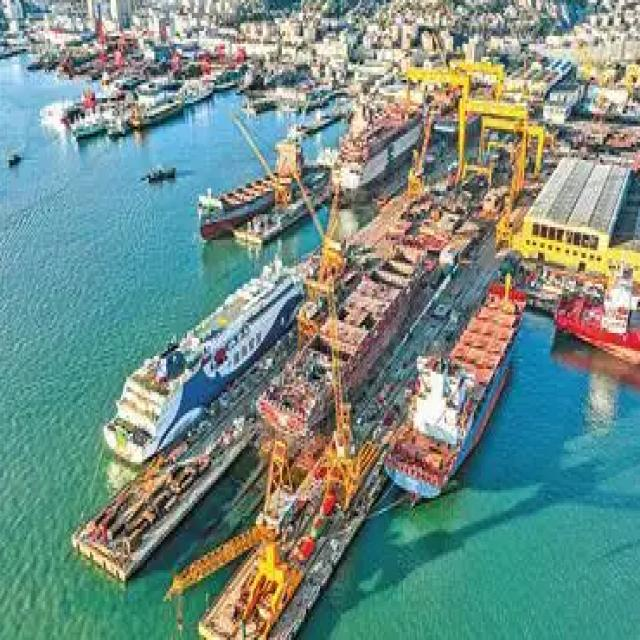cargoship: (101, 262, 302, 457), (378, 273, 526, 499), (195, 140, 307, 242), (552, 273, 640, 382), (131, 99, 186, 128), (143, 162, 180, 184), (5, 147, 26, 166)
